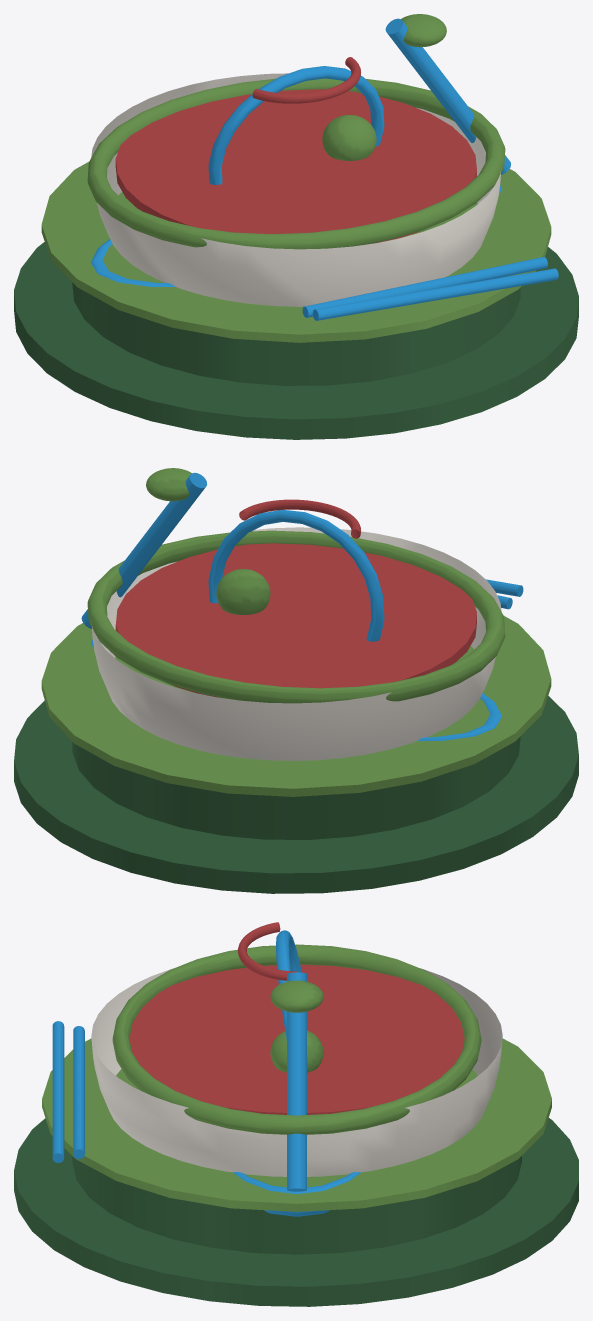
File: 0324_揭秘食物图鉴_石磨.glb
The picture shows the model from 3 angles, top to bottom: view 1: azimuth 30°, elevation 25°; view 2: azimuth 150°, elevation 25°; view 3: azimuth 270°, elevation 25°; orthographic projection.
Visible parts, largest first — view 1: card_0324; view 2: card_0324; view 3: card_0324.
Boxes of the visible parts, x1,y1,x2,y2 form: card_0324: (14,14,578,439); card_0324: (14,468,578,893); card_0324: (14,922,578,1306).
Size of the model in its own units: 1.79 by 1 by 1.83.
